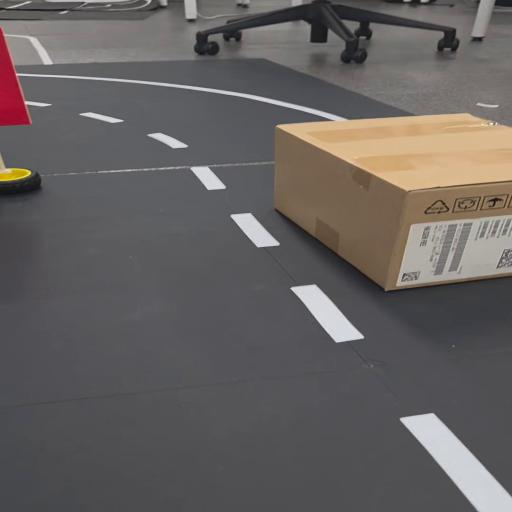Box: (276, 117, 512, 292)
